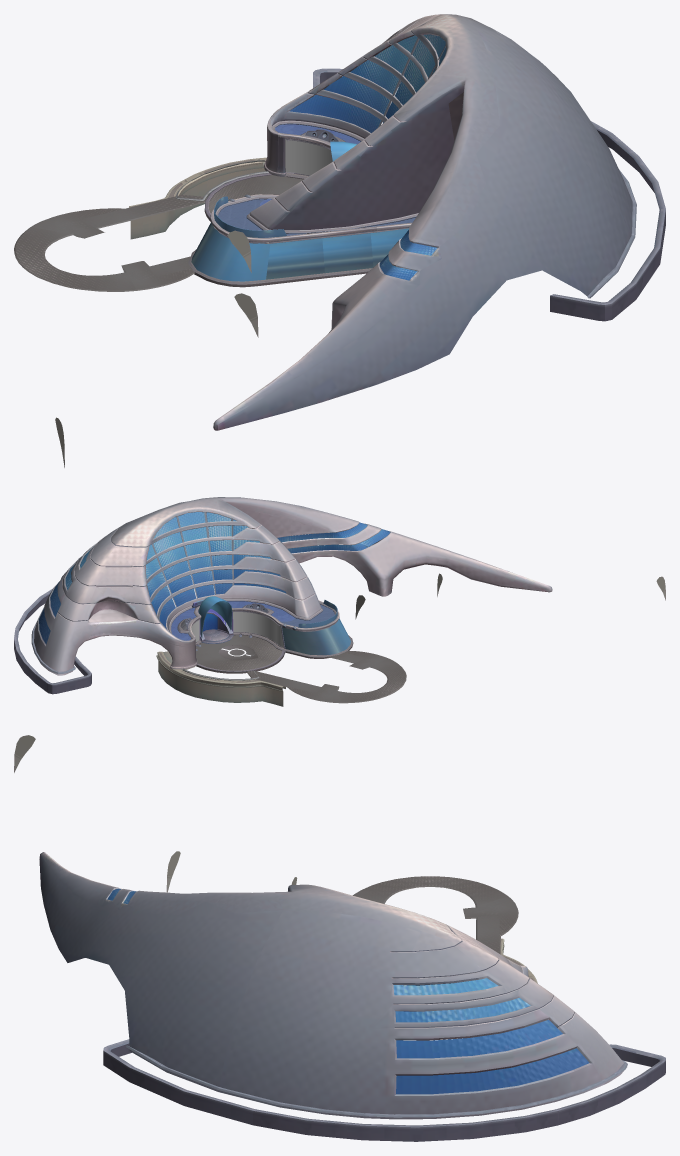
File: pref_sm_beach_bk_pointmol_leftbuild01_lv0.fbx
3 views of the same model, one above another, from view 1: azimuth 30°, elevation 25°; view 2: azimuth 150°, elevation 25°; view 3: azimuth 270°, elevation 25° (orthographic). The views are drawn at different scales.
Parts seen in each view (by area): view 1: sm_beach_bk_pointmol_leftbuild01a_lv0, sm_beach_bk_pointmol_leftbuild01d_lv0, sm_beach_bk_pointmol_leftbuild01b_lv0, sm_beach_bk_pointmol_leftbuild01c_lv0, sm_beach_bk_pointmol_leftbuild01h_lv0, sm_beach_bk_pointmol_leftbuild01g_lv0; view 2: sm_beach_bk_pointmol_leftbuild01a_lv0, sm_beach_bk_pointmol_leftbuild01b_lv0, sm_beach_bk_pointmol_leftbuild01d_lv0, sm_beach_bk_pointmol_leftbuild01h_lv0, sm_beach_bk_pointmol_leftbuild01c_lv0, sm_beach_bk_pointmol_leftbuild01g_lv0, sm_beach_bk_pointmol_leftbuild01e_lv0; view 3: sm_beach_bk_pointmol_leftbuild01a_lv0, sm_beach_bk_pointmol_leftbuild01b_lv0, sm_beach_bk_pointmol_leftbuild01d_lv0.
Boxes of the visible parts, <box> form: sm_beach_bk_pointmol_leftbuild01a_lv0: <box>188,14,665,430</box>; sm_beach_bk_pointmol_leftbuild01d_lv0: <box>14,175,303,467</box>; sm_beach_bk_pointmol_leftbuild01b_lv0: <box>214,34,446,280</box>; sm_beach_bk_pointmol_leftbuild01c_lv0: <box>191,222,409,281</box>; sm_beach_bk_pointmol_leftbuild01h_lv0: <box>129,157,268,239</box>; sm_beach_bk_pointmol_leftbuild01g_lv0: <box>285,138,332,175</box>; sm_beach_bk_pointmol_leftbuild01a_lv0: <box>14,497,552,694</box>; sm_beach_bk_pointmol_leftbuild01b_lv0: <box>39,512,390,644</box>; sm_beach_bk_pointmol_leftbuild01d_lv0: <box>196,573,665,703</box>; sm_beach_bk_pointmol_leftbuild01h_lv0: <box>156,651,285,706</box>; sm_beach_bk_pointmol_leftbuild01c_lv0: <box>282,618,351,655</box>; sm_beach_bk_pointmol_leftbuild01g_lv0: <box>191,612,283,647</box>; sm_beach_bk_pointmol_leftbuild01e_lv0: <box>218,645,254,659</box>; sm_beach_bk_pointmol_leftbuild01a_lv0: <box>39,852,665,1141</box>; sm_beach_bk_pointmol_leftbuild01b_lv0: <box>107,888,589,1094</box>; sm_beach_bk_pointmol_leftbuild01d_lv0: <box>14,735,518,954</box>.
Size of the model in its own units: 79.54 by 19.41 by 64.79.
